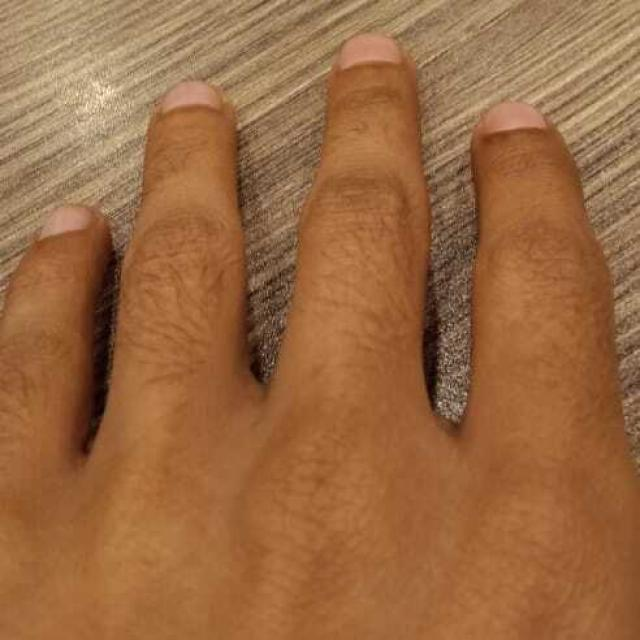Nail: (475, 102, 548, 136), (334, 35, 401, 69), (162, 82, 220, 111), (41, 208, 94, 237)
